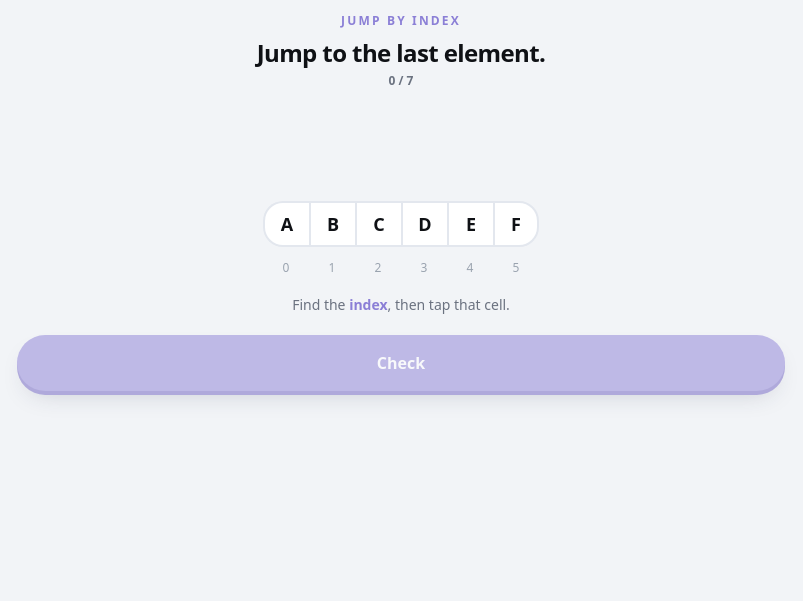
Test: Arrays stage: de-cued access (overlay is post-verdict only) › draws no jump overlay until a verdict lands, then reveals it
Check: the button "Check" is disabled, box [17, 335, 785, 391]
Click the button "F". click: [516, 224]
box: [493, 201, 539, 247]
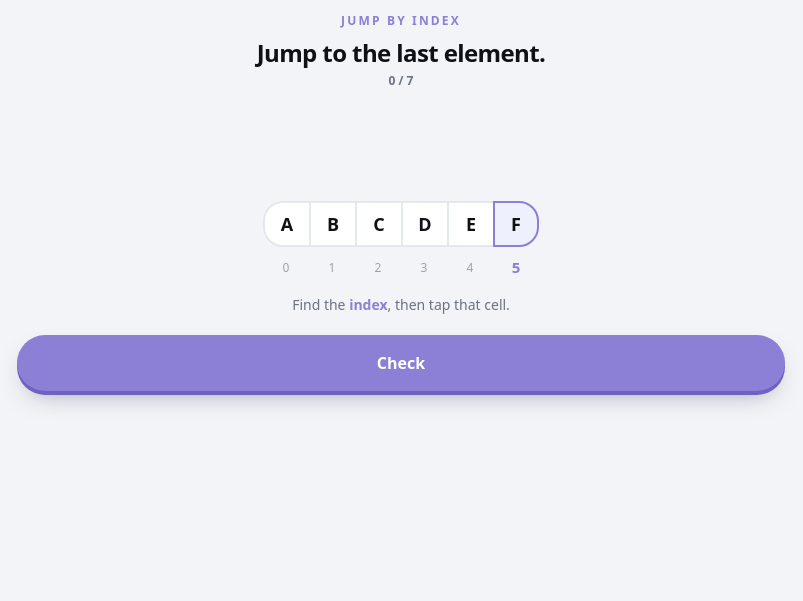
Click the button "Check". click: [401, 363]
box: [17, 335, 785, 391]
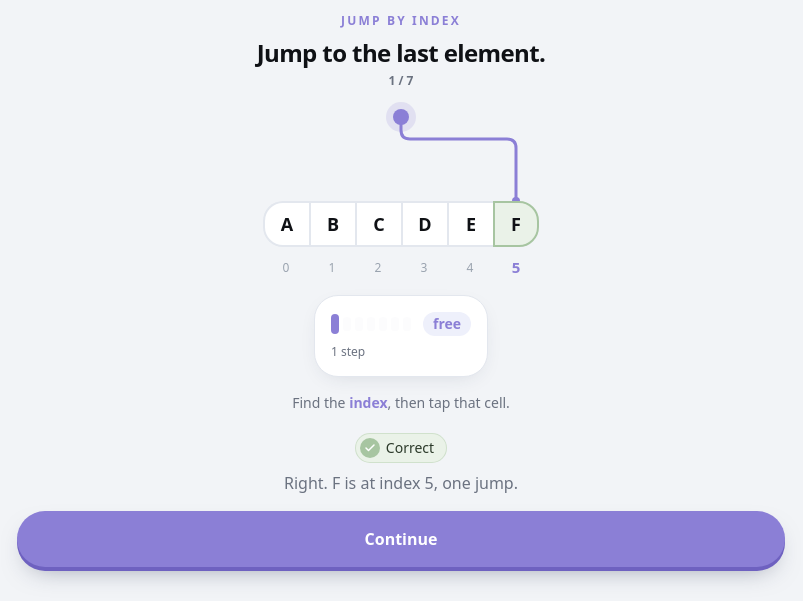
Check: the button "Continue" is shown, box [17, 511, 785, 567]
